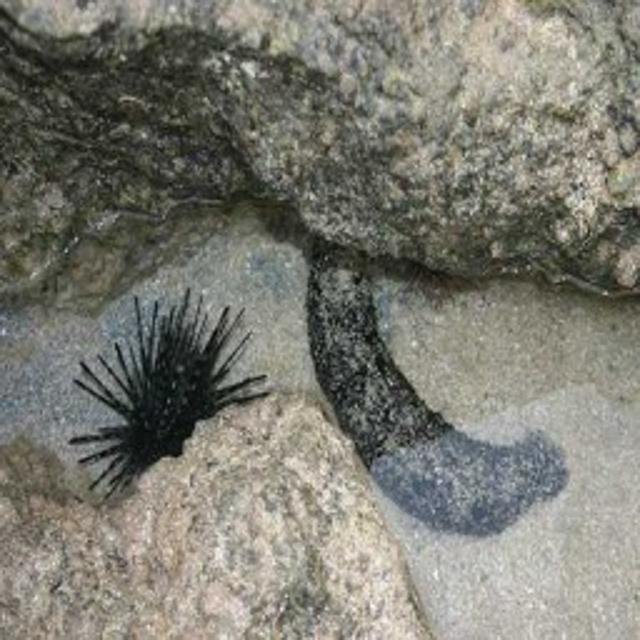Urchin: (67, 282, 274, 503)
